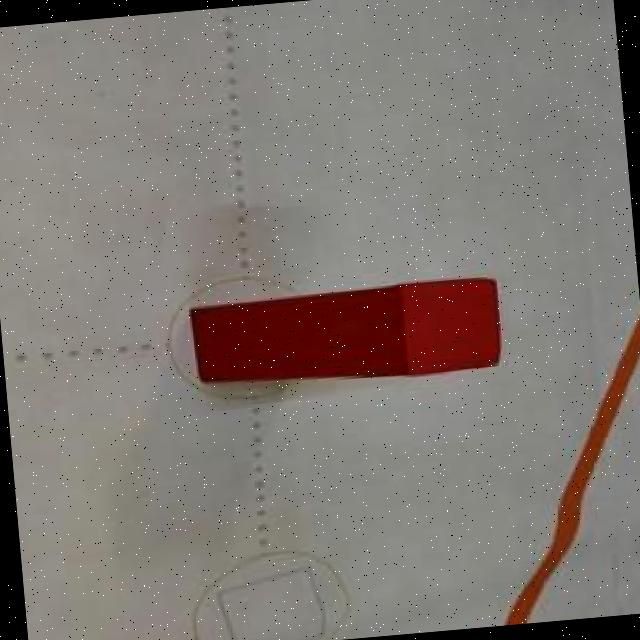redbox: (184, 272, 505, 393)
